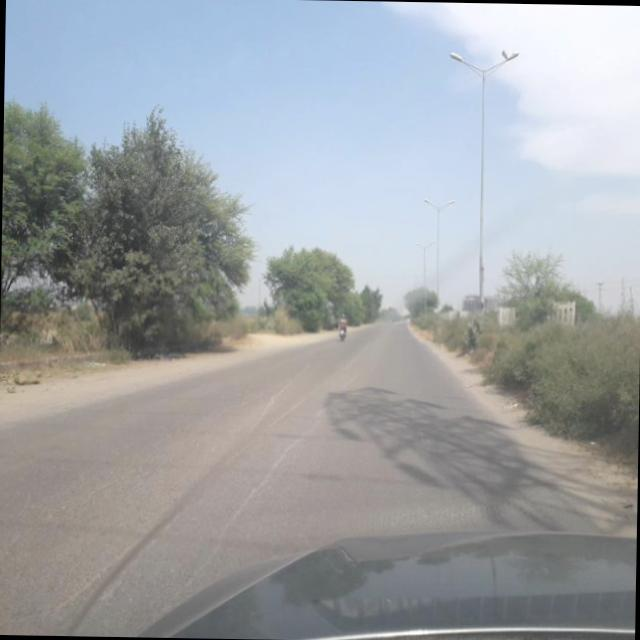pothole: (182, 366, 360, 586), (13, 483, 196, 624)
